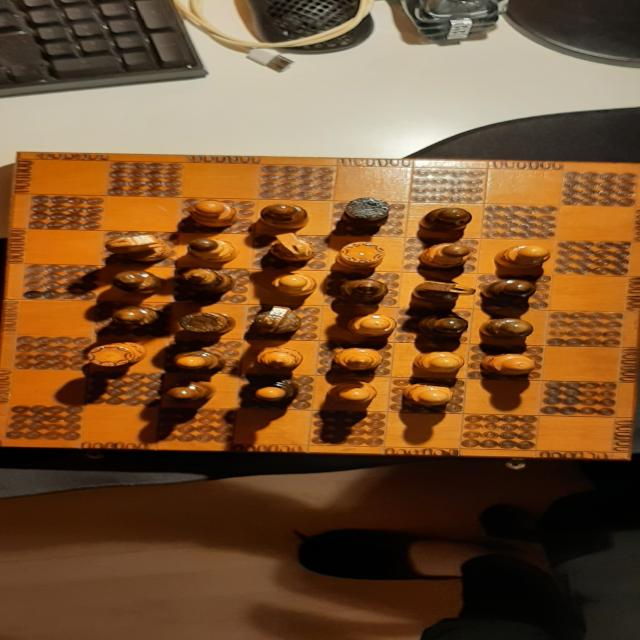black-bishop: (173, 350, 226, 374), (250, 380, 299, 403)
black-king: (181, 268, 236, 294)
black-knight: (412, 281, 478, 304), (255, 306, 303, 334)
black-pawn: (418, 207, 473, 235), (478, 316, 535, 341), (259, 203, 309, 231), (480, 278, 538, 302), (111, 305, 167, 329), (112, 270, 164, 295), (417, 317, 469, 338), (167, 380, 215, 402)
black-queen: (338, 278, 389, 302)
black-rook: (340, 197, 391, 228), (178, 312, 237, 334)
white-bishop: (186, 238, 239, 264), (420, 242, 471, 268)
white-king: (255, 346, 304, 370)
white-knight: (104, 234, 174, 262), (269, 232, 318, 262)
white-pawn: (494, 244, 552, 271), (188, 199, 238, 228), (403, 382, 454, 407), (480, 353, 536, 375), (269, 272, 318, 297), (347, 313, 397, 337), (413, 350, 465, 373), (327, 380, 378, 403)
white-queen: (333, 347, 384, 371)
white-rook: (88, 342, 149, 367), (335, 242, 386, 269)
